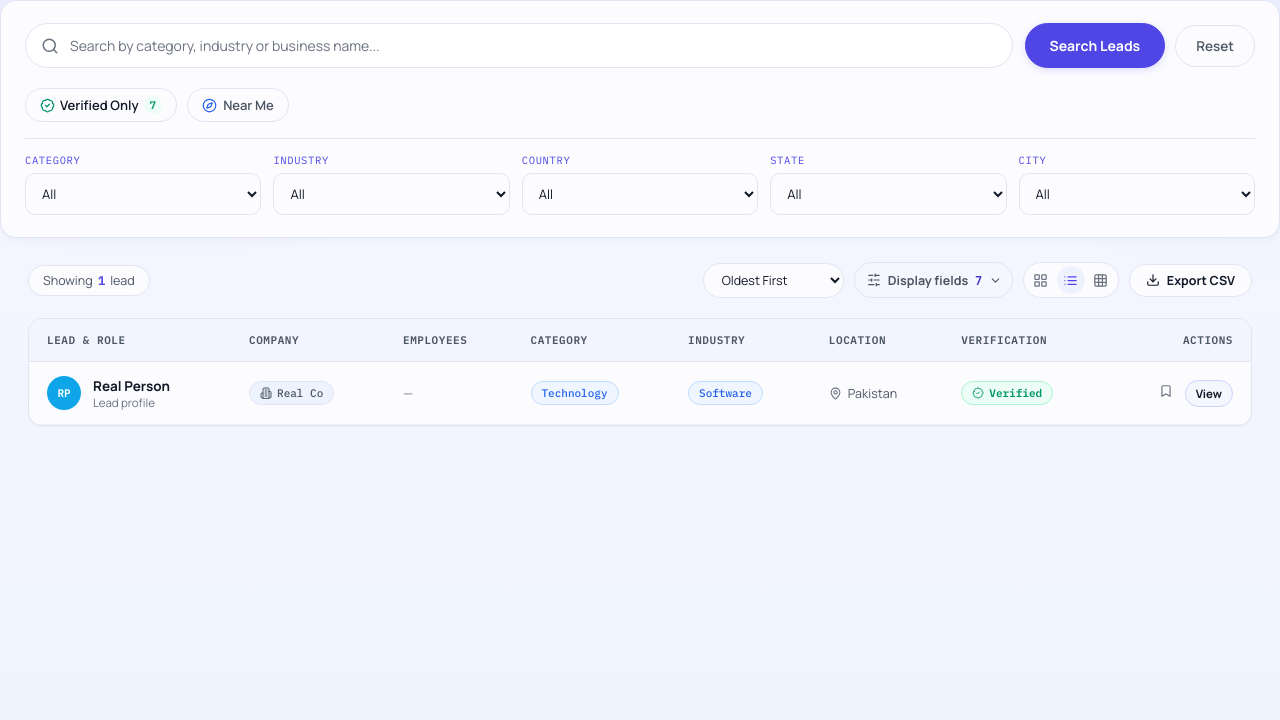
Test: DirectoryPage filters reach the API › shows an honest empty state when a filtered search matches nothing
expect the text "Real Person" is shown: met, box [93, 376, 170, 394]
Select "Banking (3)" in the 2nd dropdown with class "app-filter-dropdown-select" at (392, 194), box [273, 173, 510, 215]
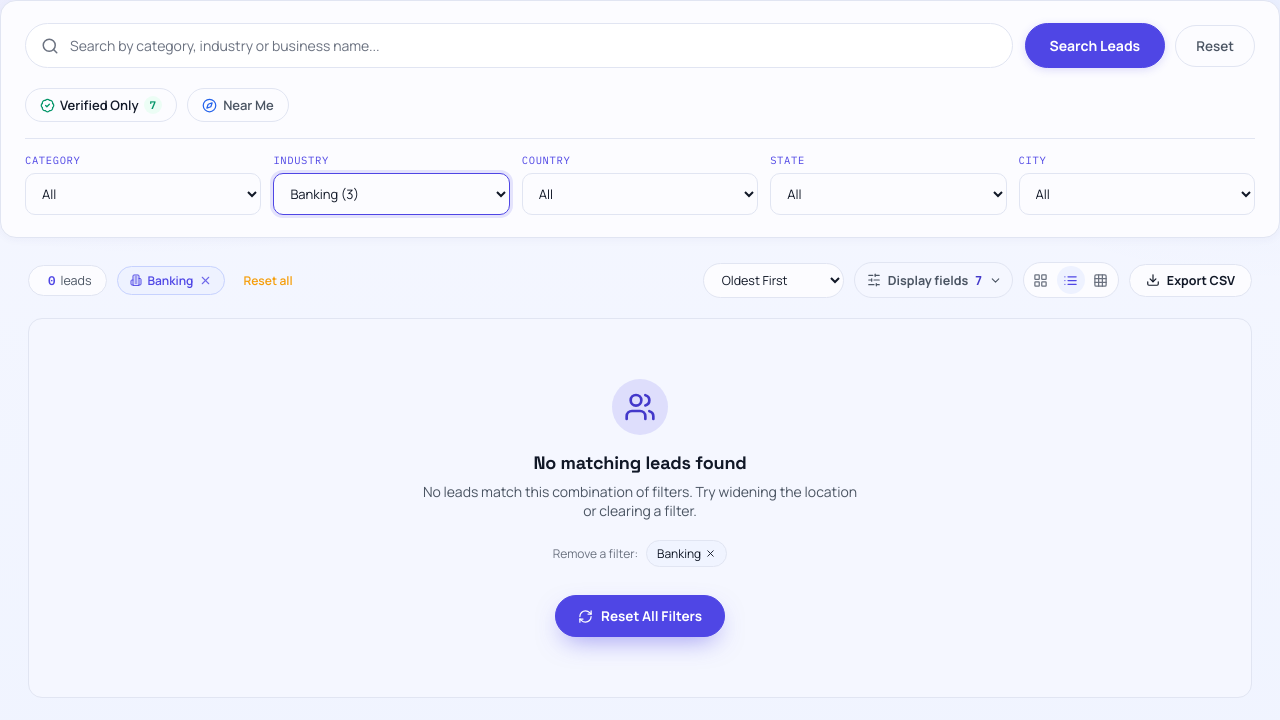
expect the text "Real Person" is gone: met
